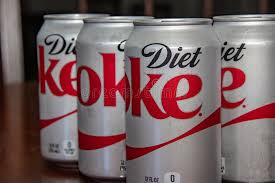can: (129, 7, 216, 183), (76, 6, 137, 180), (215, 3, 273, 183), (31, 7, 81, 167)
